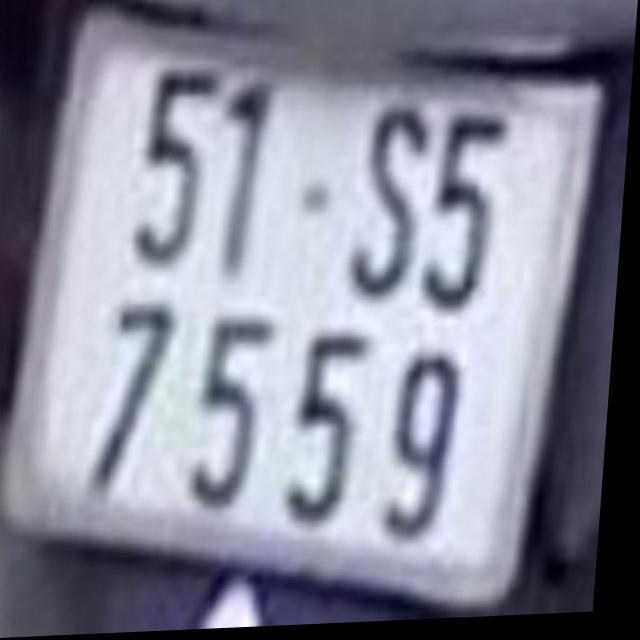1: (212, 86, 280, 279)
5: (129, 71, 216, 262), (196, 314, 276, 518), (429, 112, 507, 312), (297, 335, 370, 529)
7: (91, 303, 184, 495)
9: (390, 350, 465, 542)
S: (354, 106, 428, 301)
